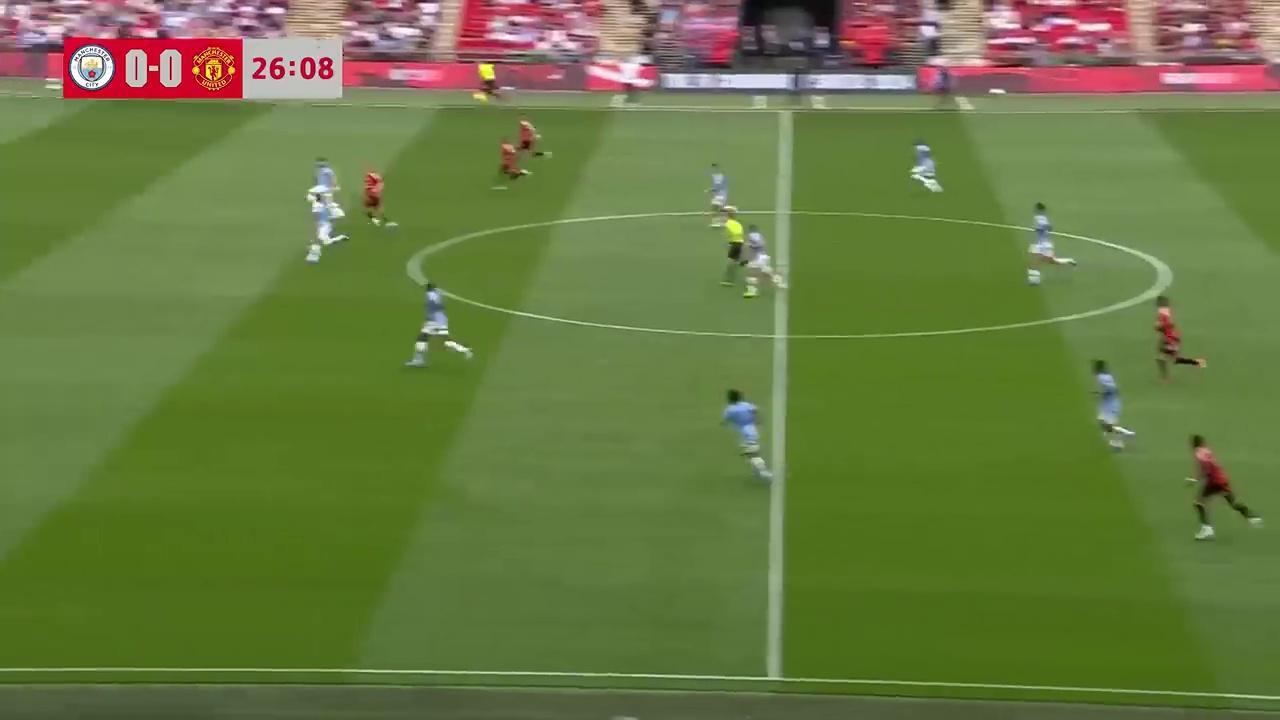player: (1185, 432, 1255, 539), (404, 282, 474, 367), (719, 386, 774, 481), (1151, 298, 1206, 383), (1091, 358, 1136, 450), (1026, 201, 1077, 281), (735, 222, 785, 297), (304, 187, 348, 264), (310, 157, 349, 220), (361, 164, 394, 229), (908, 139, 944, 194), (704, 163, 732, 224), (494, 137, 531, 183), (516, 117, 549, 163)
referee: (717, 207, 752, 295), (471, 59, 502, 107)
